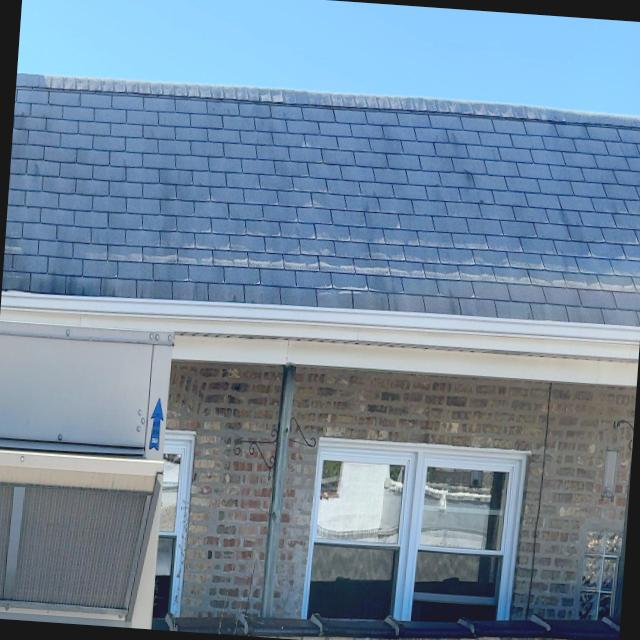RTU: (0, 294, 186, 630)
